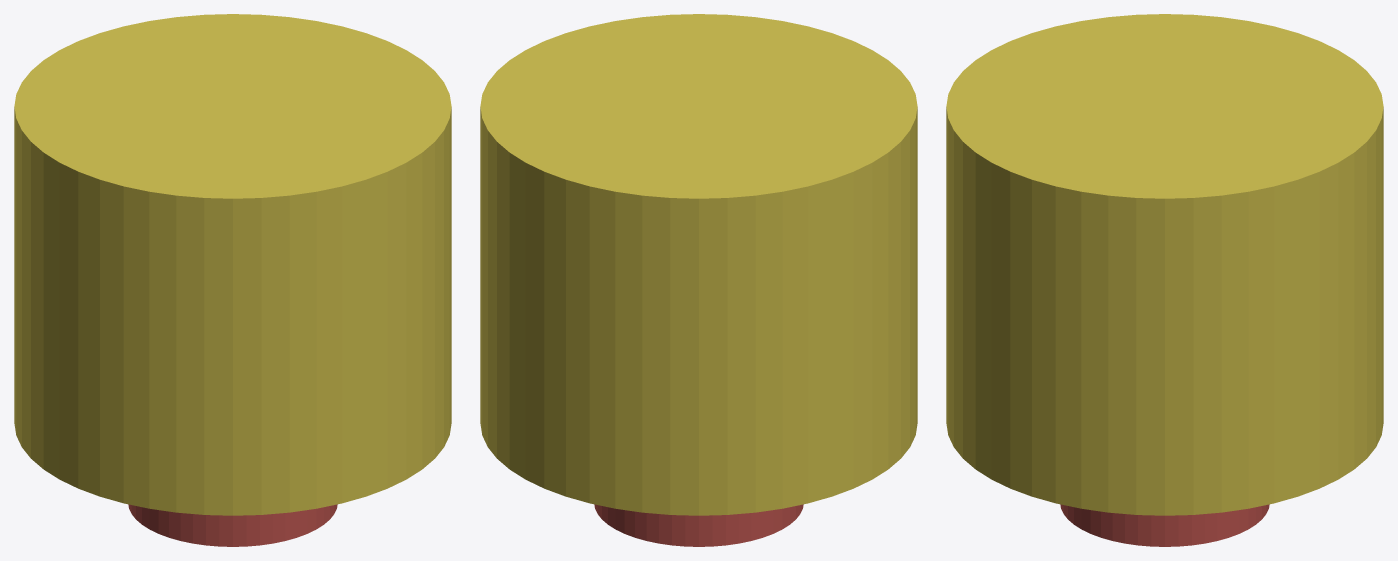
Rendered from button.glb.
3 views of the same model, side by side, from view 1: azimuth 30°, elevation 25°; view 2: azimuth 150°, elevation 25°; view 3: azimuth 270°, elevation 25° (orthographic).
Parts seen in each view (by area): view 1: yellow_housing, red_cap; view 2: yellow_housing, red_cap; view 3: yellow_housing, red_cap.
Part boxes in pixels (left/top/right/bottom): yellow_housing: left=14, top=14, right=451, bottom=515; red_cap: left=128, top=504, right=337, bottom=546; yellow_housing: left=480, top=14, right=917, bottom=515; red_cap: left=594, top=504, right=803, bottom=546; yellow_housing: left=946, top=14, right=1383, bottom=515; red_cap: left=1060, top=504, right=1269, bottom=546.
Bounding box in the file's own units: 0.1485 × 0.1485 × 0.1485.
